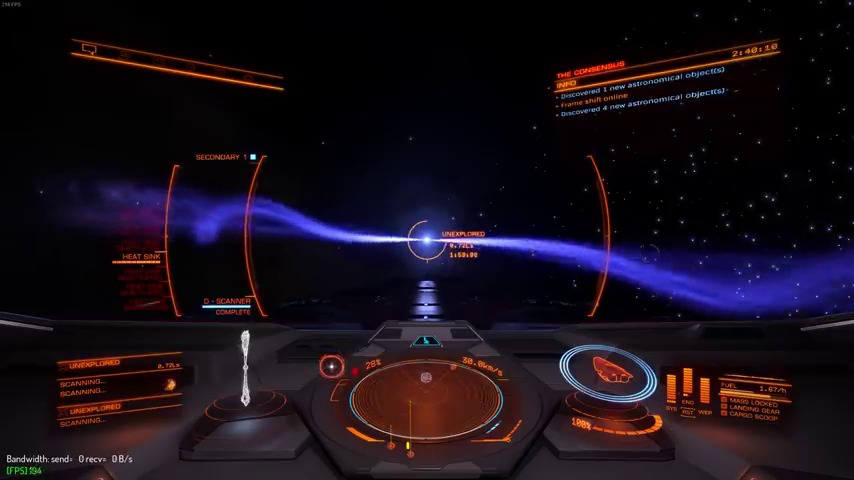jetcone: (453, 223, 850, 324), (456, 226, 850, 321), (117, 187, 397, 259)
